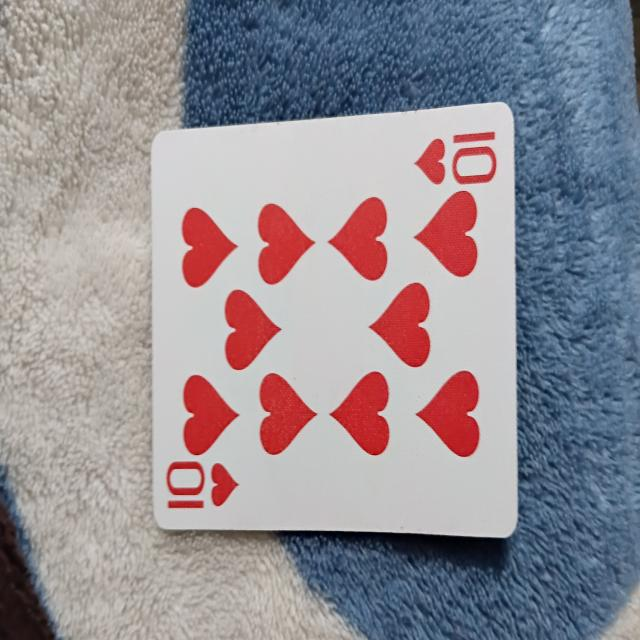10H: (151, 100, 513, 540)
